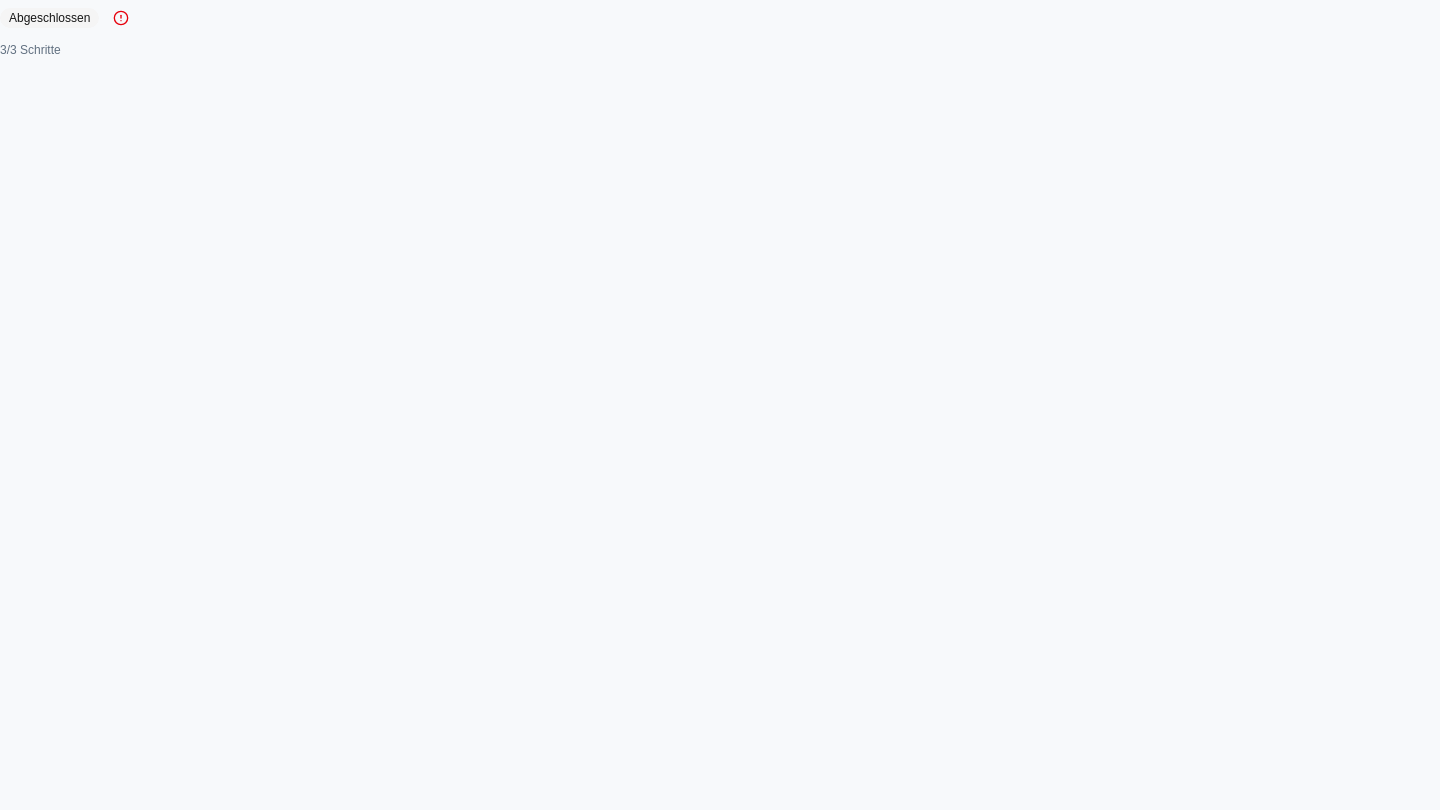
shows matching execution errors in the processing status details
Click the button named "Fehlerdetails anzeigen" at (121, 18), box [103, 0, 139, 36]
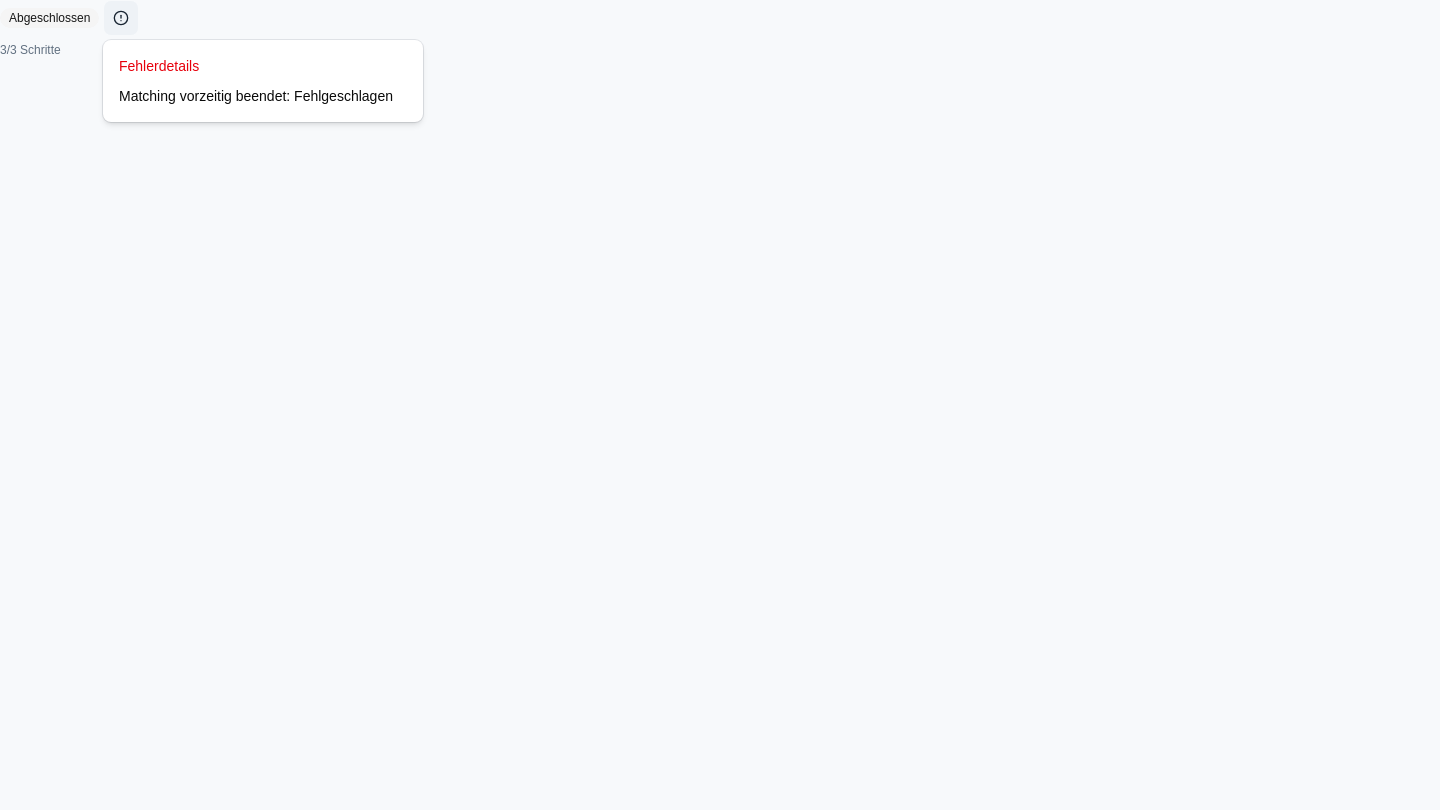
Result: the text "Matching vorzeitig beendet: Fehlgeschlagen" is shown at [119, 86, 407, 106]
